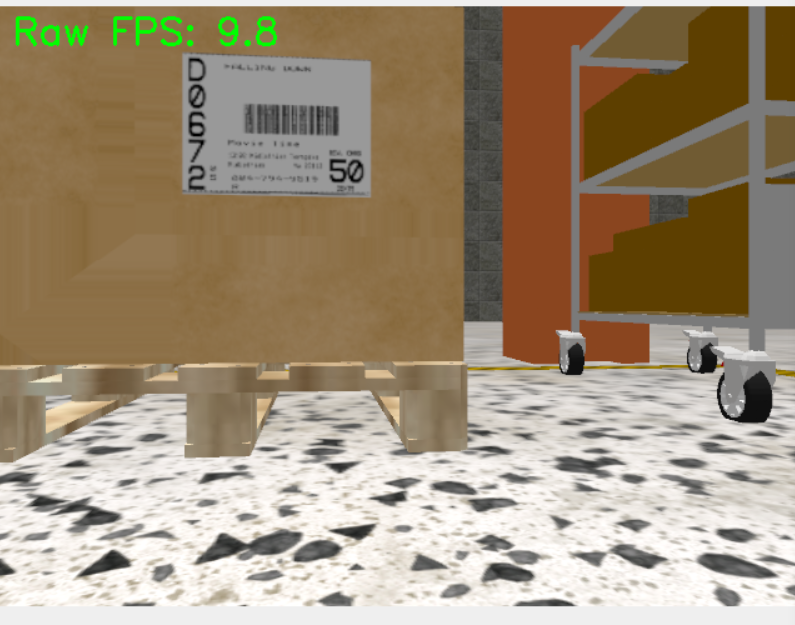barcode: (181, 53, 375, 198)
